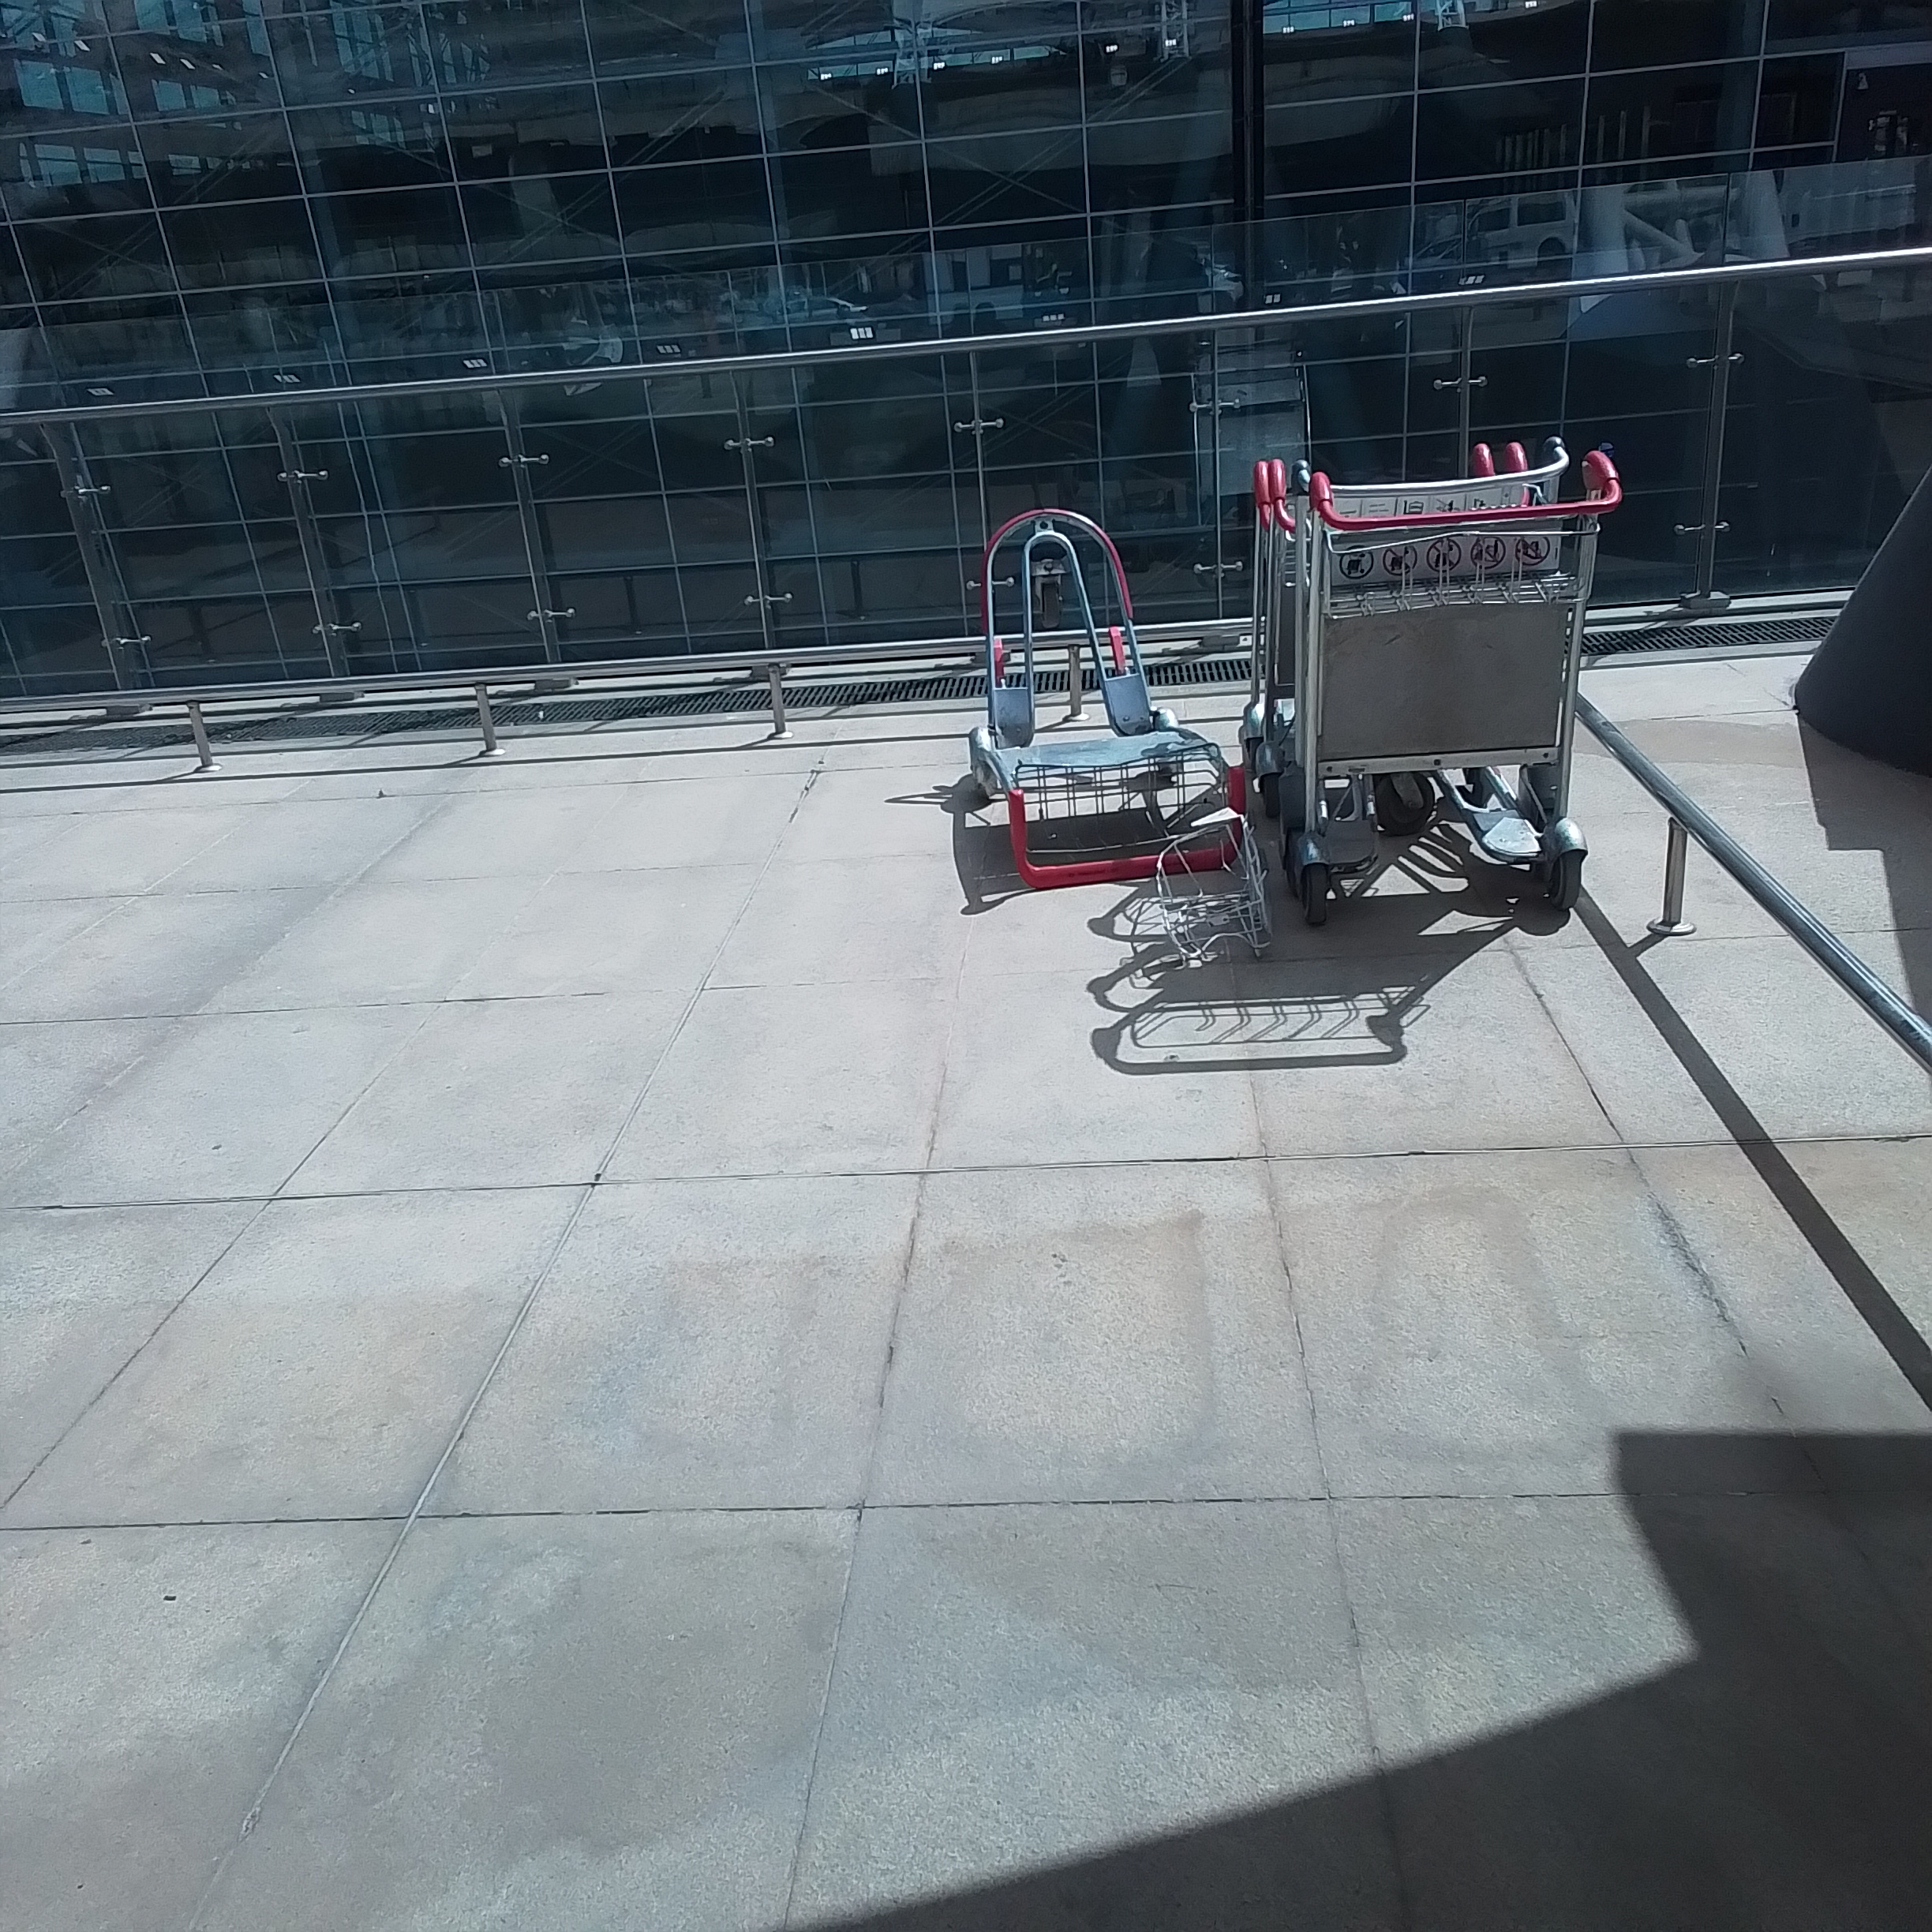airport-trolley: (1300, 471, 1617, 947), (955, 497, 1270, 895)
